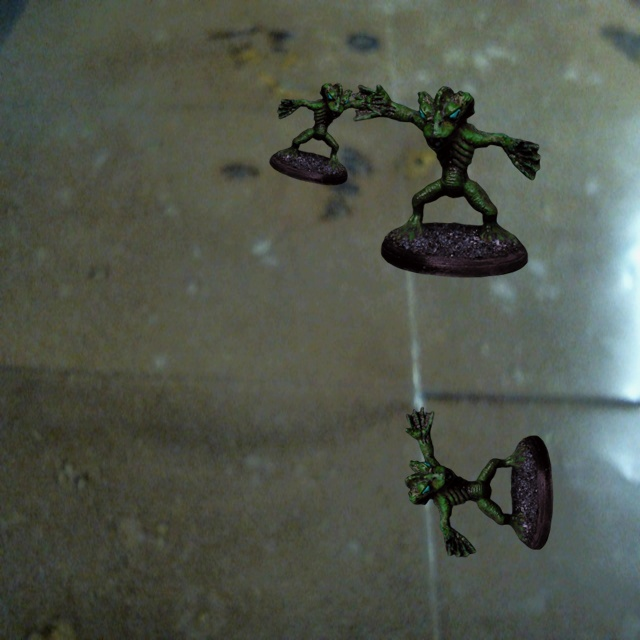pieza_juego: (348, 84, 540, 277), (405, 407, 552, 556), (269, 83, 385, 185)
